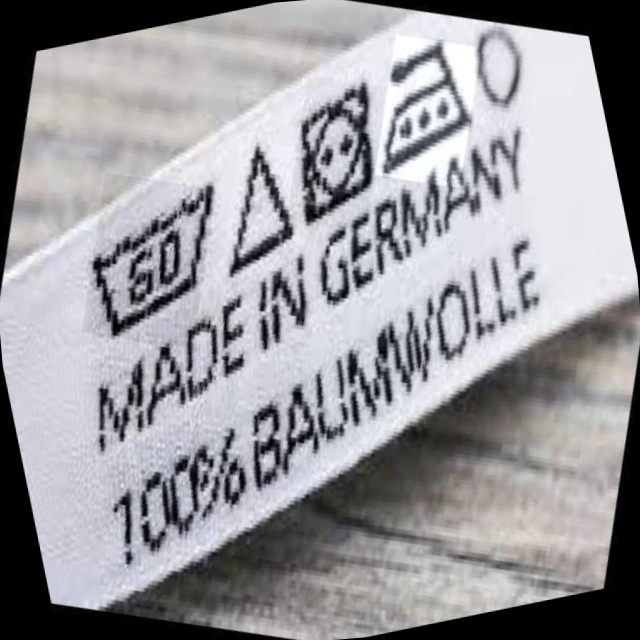60C: (62, 176, 242, 338)
bleach: (209, 135, 306, 277)
iron_high: (361, 30, 484, 176)
tumble_dry_medium: (279, 76, 392, 222)
